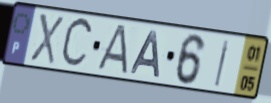6: (175, 32, 206, 87)
A: (93, 23, 130, 77), (128, 29, 162, 80)
C: (59, 15, 96, 72)
I: (212, 37, 232, 89)
X: (28, 11, 66, 68)
